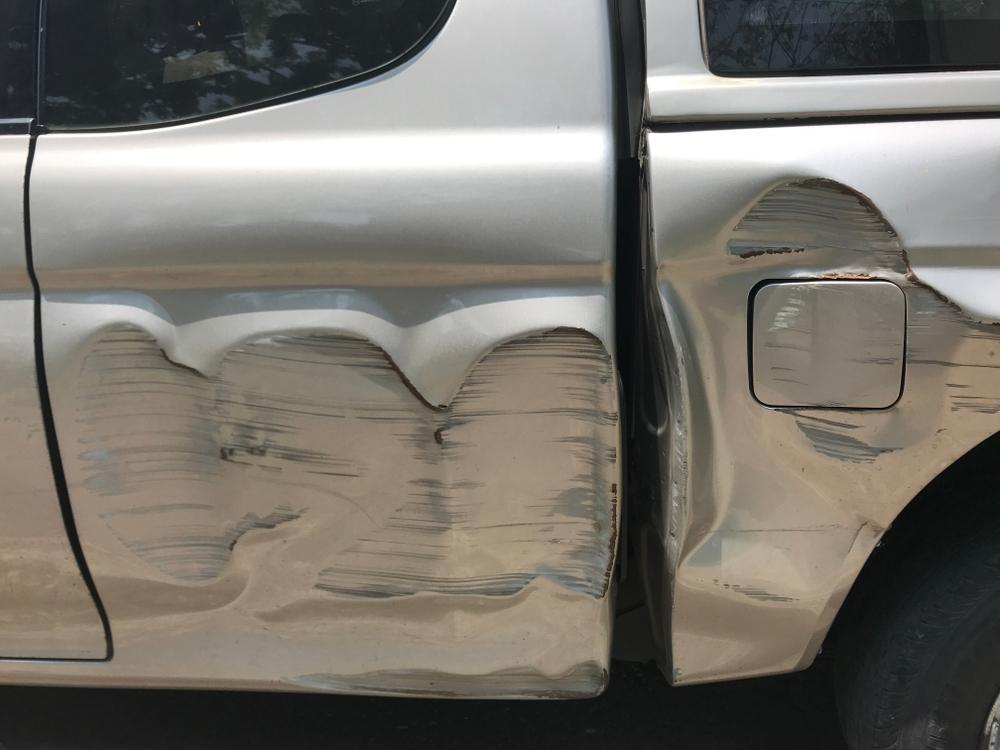dent: (75, 322, 618, 620), (662, 179, 1000, 608), (284, 662, 604, 700)
